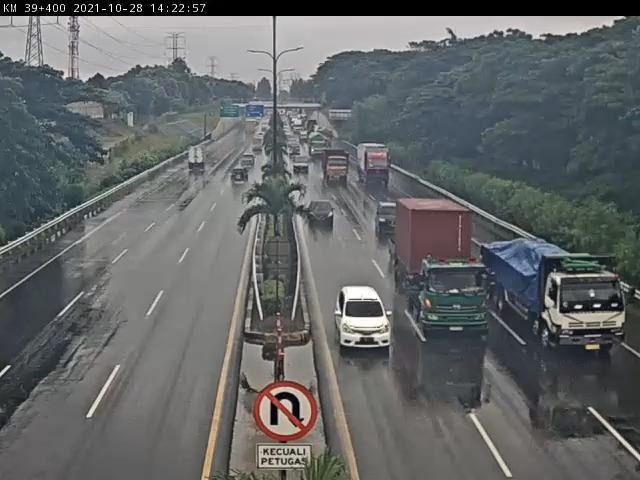truck: (485, 238, 629, 352), (396, 196, 490, 336), (358, 144, 389, 184), (324, 148, 355, 184)
